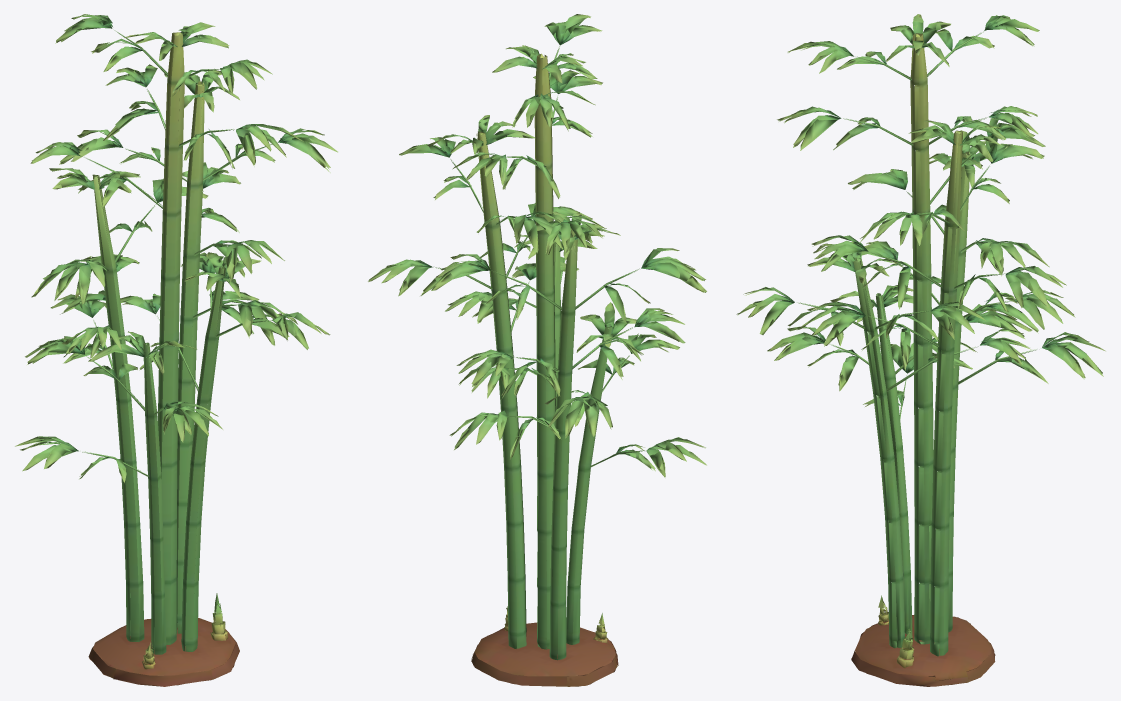
The model's file is bamboo_far.glb.
3 renders of one model, left to right at view 1: azimuth 30°, elevation 25°; view 2: azimuth 150°, elevation 25°; view 3: azimuth 270°, elevation 25°, orthographic. The views are drawn at different scales.
Parts seen in each view (by area): view 1: bamboo-stalk_body.001; view 2: bamboo-stalk_body.001; view 3: bamboo-stalk_body.001.
Boxes of the visible parts, x1,y1,x2,y2 form: bamboo-stalk_body.001: (15,14,337,686); bamboo-stalk_body.001: (368,14,706,686); bamboo-stalk_body.001: (736,14,1105,686).
Size of the model in its own units: 1.12 by 2.14 by 1.15.
Materials: 1 (1 with a texture image).
